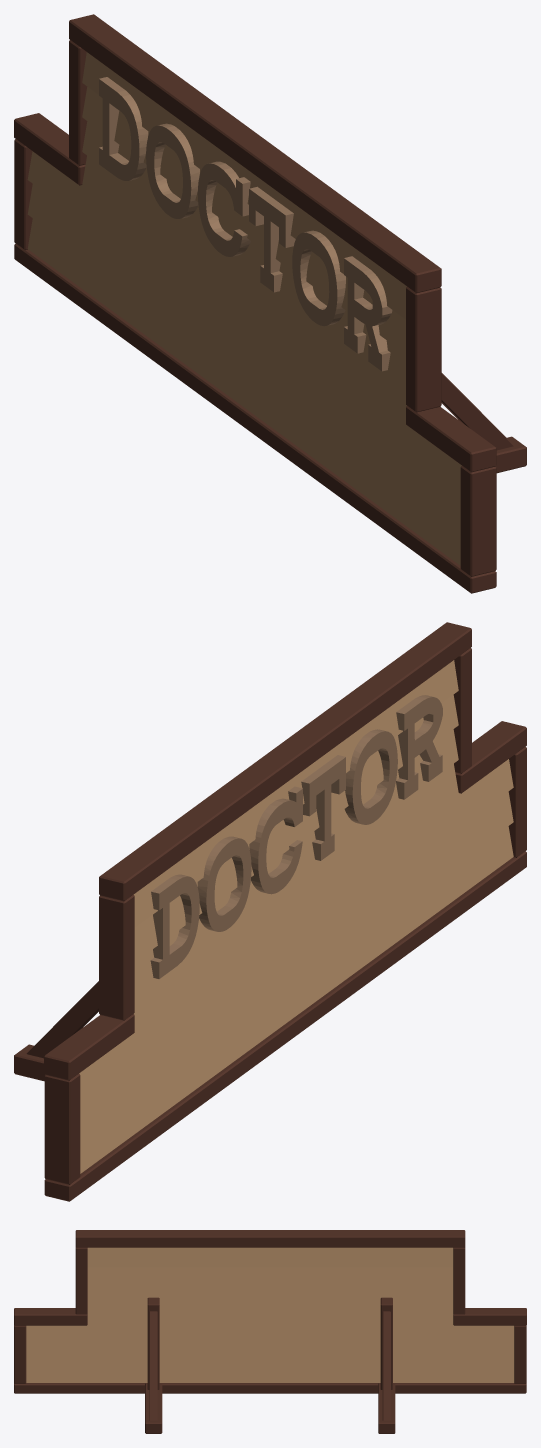
File: doctor-sign-c.glb
3 views of the same model, one above another, from view 1: azimuth 30°, elevation 25°; view 2: azimuth 150°, elevation 25°; view 3: azimuth 270°, elevation 25° (orthographic). The views are drawn at different scales.
Parts seen in each view (by area): view 1: Doctor Sign C (×3); view 2: Doctor Sign C (×3); view 3: Doctor Sign C (×2).
Boxes of the visible parts, box(x1,y1,x2,y2) form: Doctor Sign C (×3): box(14, 14, 526, 593); Doctor Sign C (×3): box(14, 622, 526, 1201); Doctor Sign C (×2): box(14, 1230, 526, 1433).
Size of the model in its own units: 1.46 by 2.23 by 6.6.
